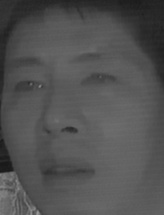eye: (80, 70, 117, 90), (11, 77, 45, 97)
mouth: (36, 154, 94, 184)
